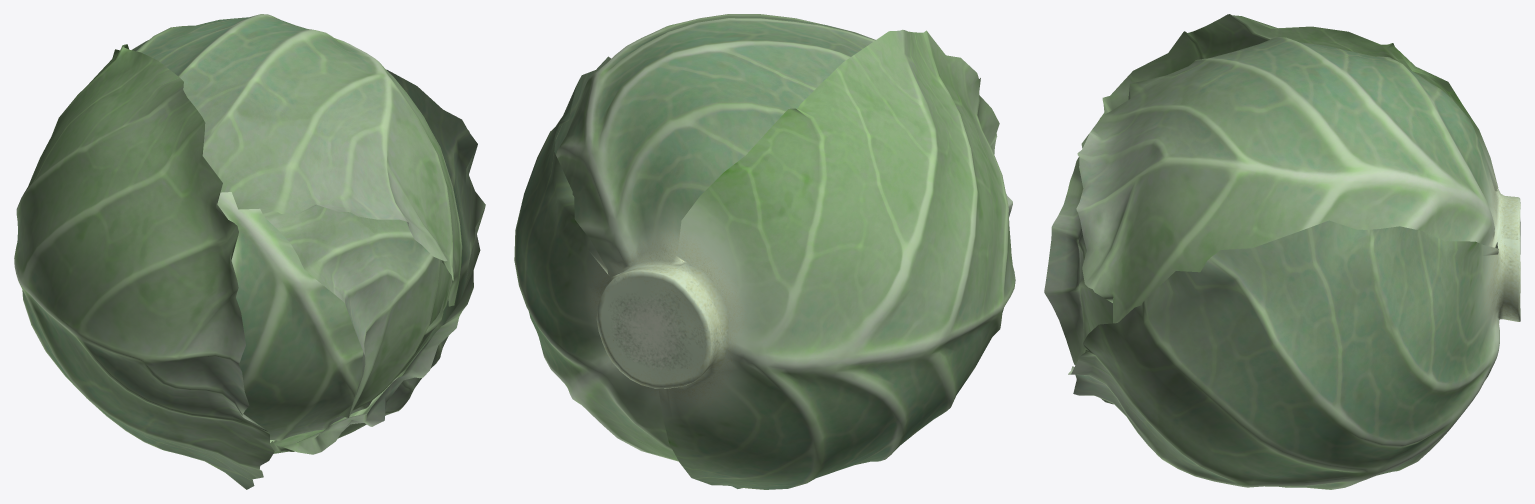
Rendered from cabbage.obj.
The picture shows the model from 3 angles, left to right: view 1: azimuth 30°, elevation 25°; view 2: azimuth 150°, elevation 25°; view 3: azimuth 270°, elevation 25°; orthographic projection. The views are drawn at different scales.
Parts seen in each view (by area): view 1: cabbage01; view 2: cabbage01; view 3: cabbage01.
Part boxes in pixels (box(x1,y1,x2,y2)): cabbage01: box(14, 14, 485, 489); cabbage01: box(514, 14, 1015, 489); cabbage01: box(1044, 14, 1520, 489).
Bounding box in the file's own units: 2 × 2 × 2.
Materials: 1 (1 with a texture image).
